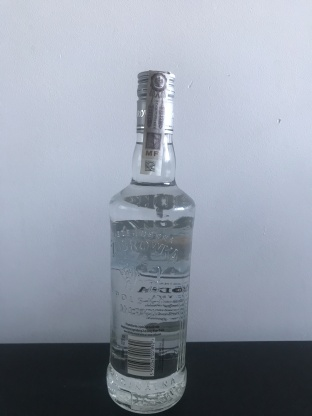nakretka: (134, 65, 177, 138)
